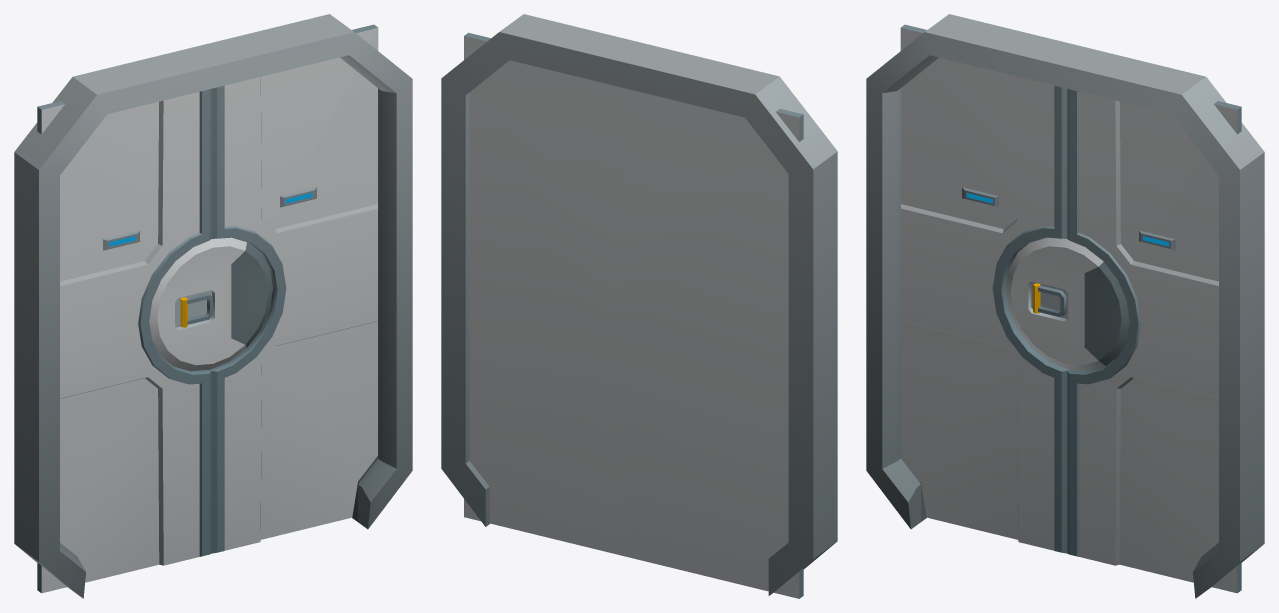
File: Door_002.glb
3 renders of one model, left to right at view 1: azimuth 30°, elevation 25°; view 2: azimuth 150°, elevation 25°; view 3: azimuth 330°, elevation 25°, orthographic.
Parts seen in each view (by area): view 1: Door_panel_005, Door_panel_004, Door_002, Door_panel_003; view 2: Door_panel_004, Door_panel_005, Door_002; view 3: Door_panel_004, Door_panel_005, Door_002, Door_panel_003.
Boxes of the visible parts, x1=… form: Door_panel_005: x1=210, y1=24, x2=378, y2=553; Door_panel_004: x1=37, y1=89, x2=211, y2=593; Door_002: x1=14, y1=14, x2=412, y2=598; Door_panel_003: x1=149, y1=237, x2=272, y2=371; Door_panel_004: x1=609, y1=86, x2=803, y2=598; Door_panel_005: x1=464, y1=32, x2=621, y2=553; Door_002: x1=441, y1=14, x2=837, y2=595; Door_panel_004: x1=900, y1=24, x2=1068, y2=553; Door_panel_005: x1=1067, y1=89, x2=1241, y2=593; Door_002: x1=866, y1=14, x2=1264, y2=598; Door_panel_003: x1=1006, y1=237, x2=1129, y2=371.
Size of the model in its own units: 2.63 by 3.36 by 0.3315.
2 materials, 2 textured.
